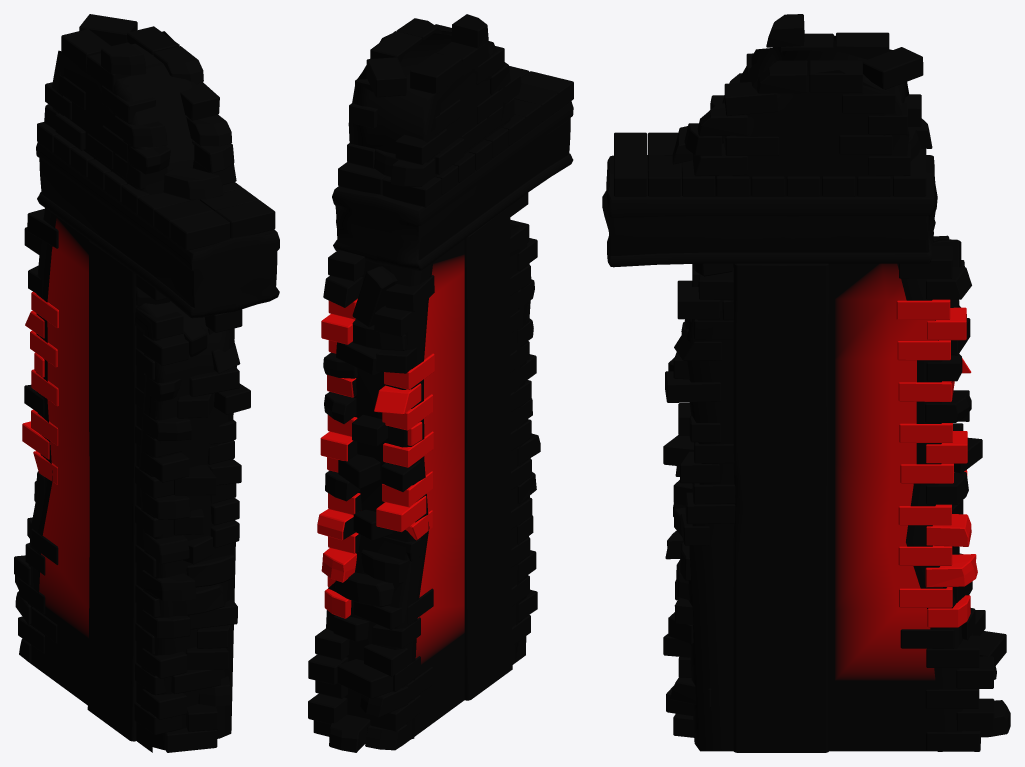
File: Fence1.fbx
3 renders of one model, left to right at view 1: azimuth 30°, elevation 25°; view 2: azimuth 150°, elevation 25°; view 3: azimuth 270°, elevation 25°, orthographic. The views are drawn at different scales.
Visible parts, largest first — view 1: SM_Ind_WL_Br_1mCap01.mo; view 2: SM_Ind_WL_Br_1mCap01.mo; view 3: SM_Ind_WL_Br_1mCap01.mo.
Boxes of the visible parts, box(x1,y1,x2,y2) form: SM_Ind_WL_Br_1mCap01.mo: box(14, 14, 279, 752); SM_Ind_WL_Br_1mCap01.mo: box(308, 14, 573, 752); SM_Ind_WL_Br_1mCap01.mo: box(602, 14, 1010, 752).
Bounding box in the file's own units: 62.08 × 429 × 228.
